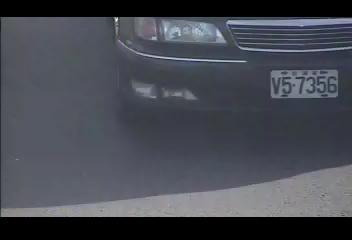plate: (268, 68, 342, 101)
